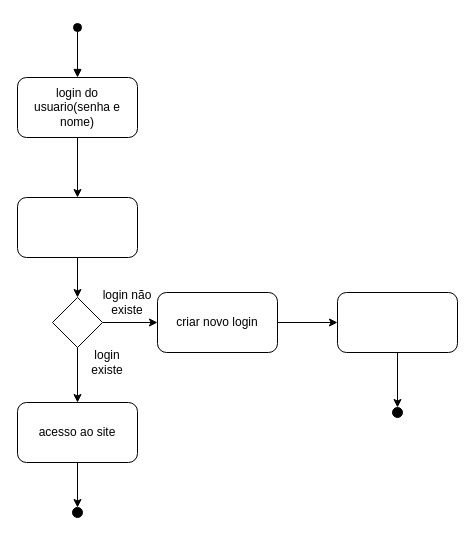
Image size: 475x535. Some labels were removed from this diagram. The shapes that lost their labels are listed below. From the top down, each one's centre as x and y in pixels, then its label:
At point 77,227: "verificar se login já existe".
At point 397,322: "salvar dados do login".
